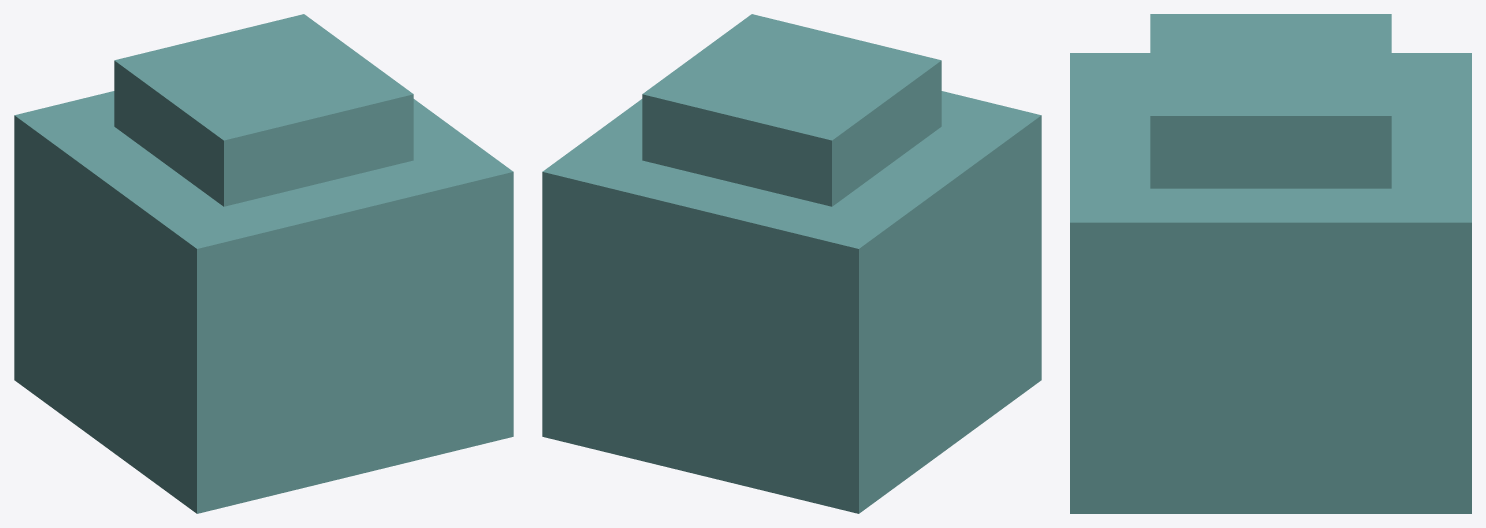
File: Item_DS_Food_KelpWrap_V1.glb
3 views of the same model, side by side, from view 1: azimuth 30°, elevation 25°; view 2: azimuth 150°, elevation 25°; view 3: azimuth 270°, elevation 25° (orthographic). The views are drawn at different scales.
Parts seen in each view (by area): view 1: Item_DS_Food_KelpWrap_V1; view 2: Item_DS_Food_KelpWrap_V1; view 3: Item_DS_Food_KelpWrap_V1.
Part boxes in pixels (<box>): Item_DS_Food_KelpWrap_V1: <box>14,14,513,513</box>; Item_DS_Food_KelpWrap_V1: <box>542,14,1041,513</box>; Item_DS_Food_KelpWrap_V1: <box>1070,14,1471,513</box>.
Bounding box in the file's own units: 0.22 × 0.22 × 0.22.
